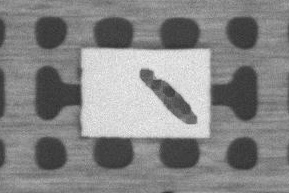DIE_INK: (137, 65, 196, 123)
